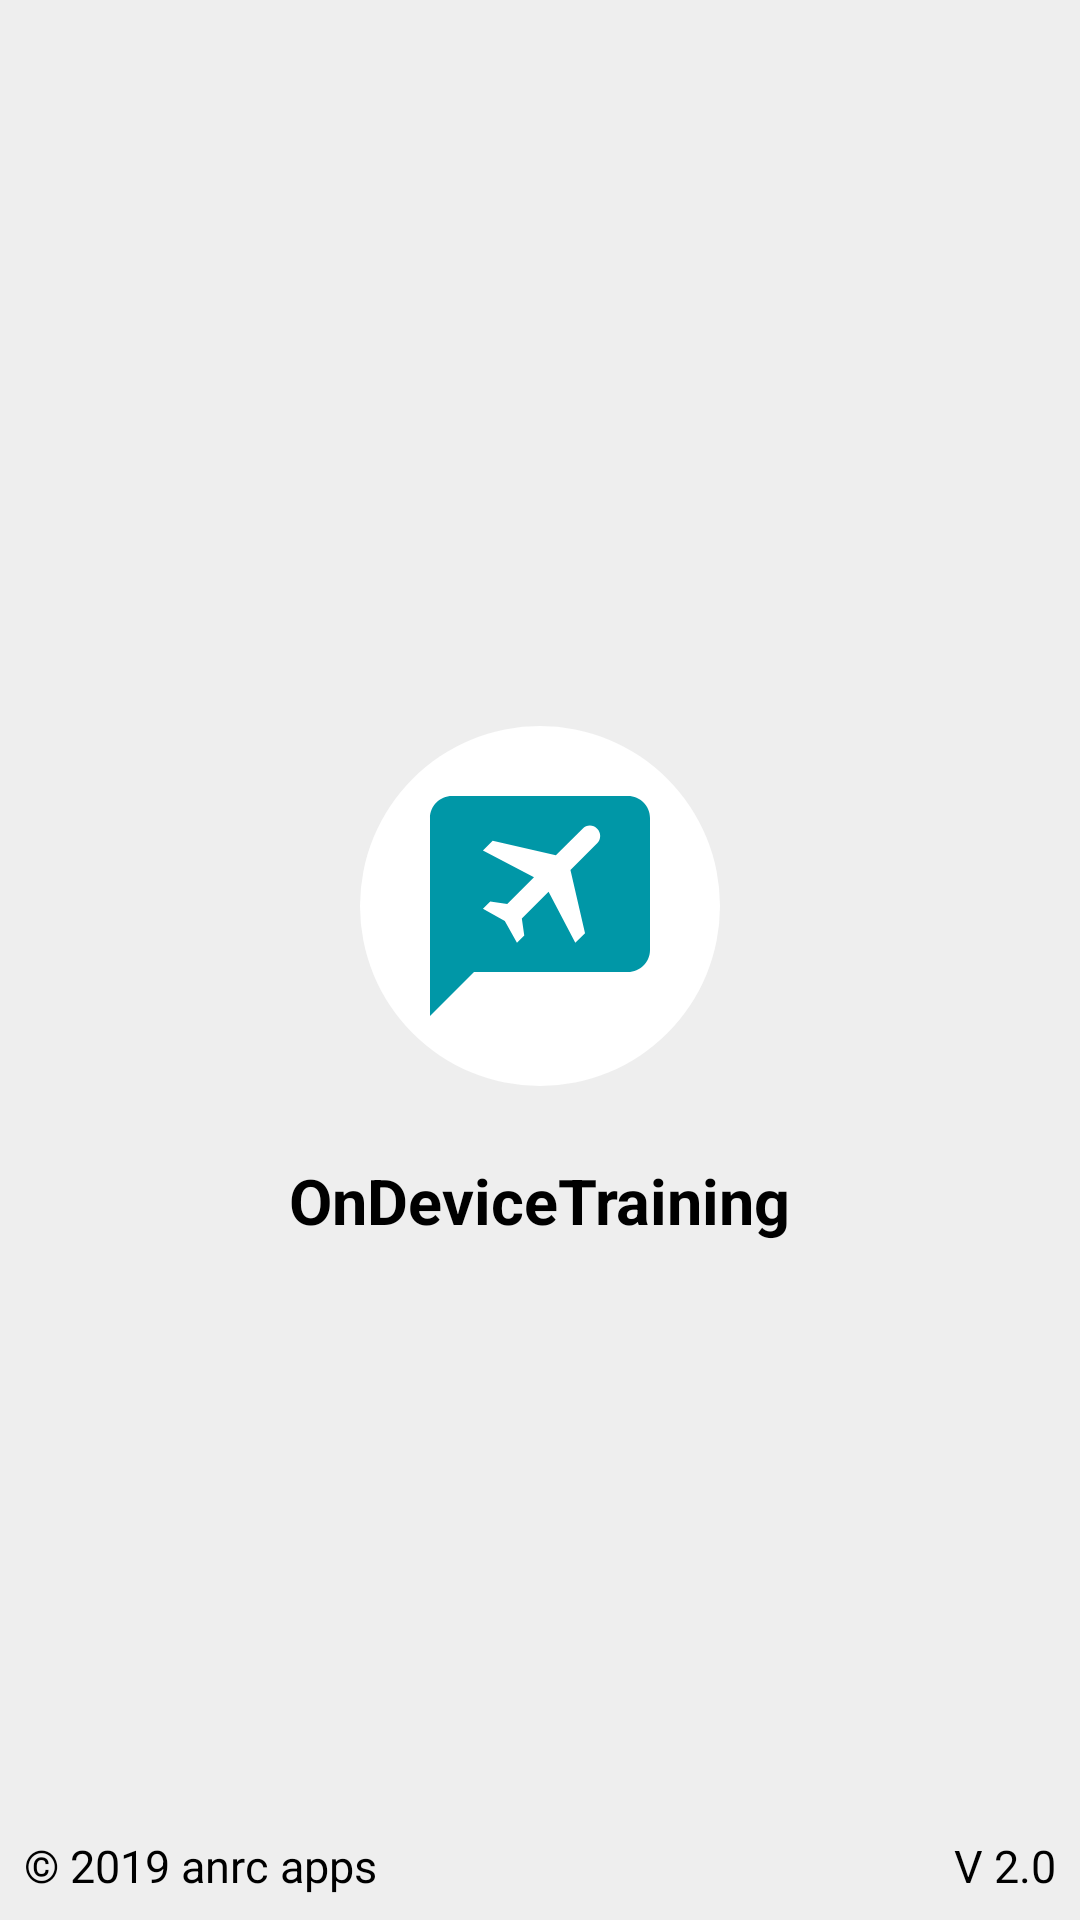

Where to tap for icons on this 1080×1920 app screen, as (x,y):
chat bubble: (540,906)
